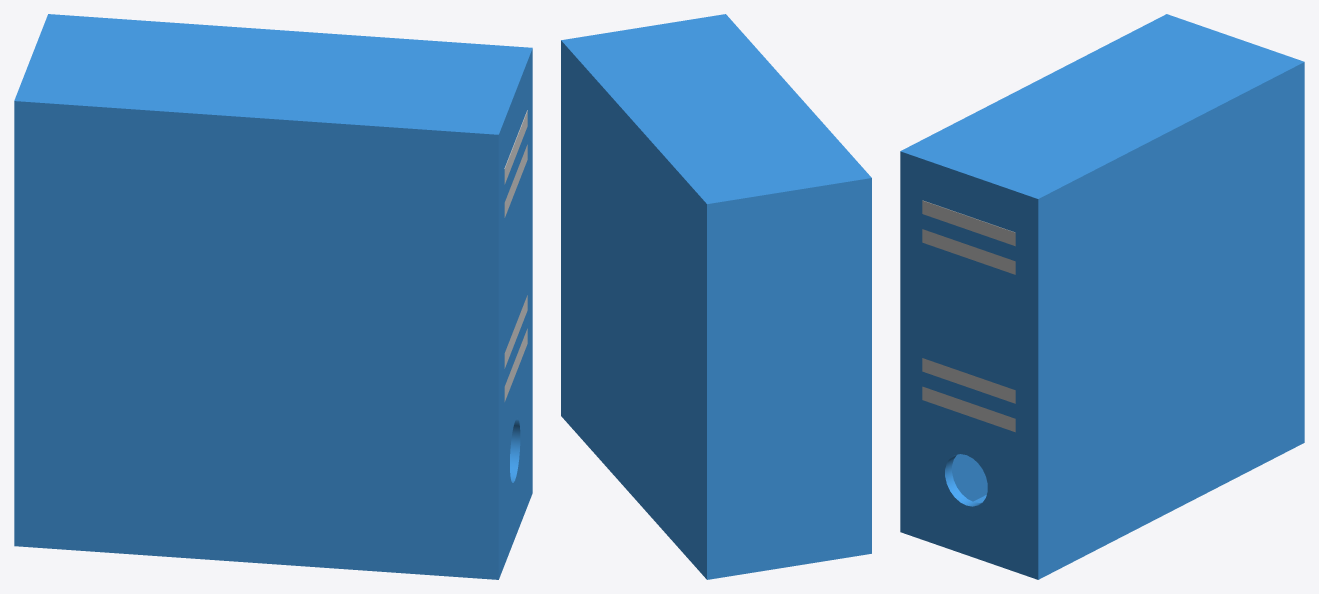
The model's file is dossier.fbx.
The picture shows the model from 3 angles, left to right: view 1: azimuth 30°, elevation 25°; view 2: azimuth 150°, elevation 25°; view 3: azimuth 270°, elevation 25°; orthographic projection. The views are drawn at different scales.
Parts seen in each view (by area): view 1: Cube.006; view 2: Cube.006; view 3: Cube.006.
Part boxes in pixels (left/top/right/bottom): Cube.006: left=14, top=14, right=532, bottom=579; Cube.006: left=561, top=14, right=871, bottom=579; Cube.006: left=900, top=14, right=1304, bottom=579.
Size of the model in its own units: 0.4649 by 0.4294 by 0.446.
